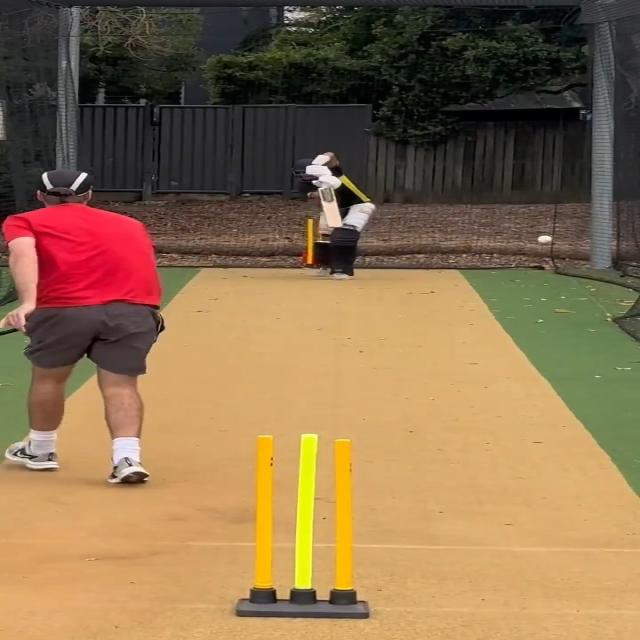ball: (536, 234, 554, 244)
stump: (232, 433, 368, 618)
